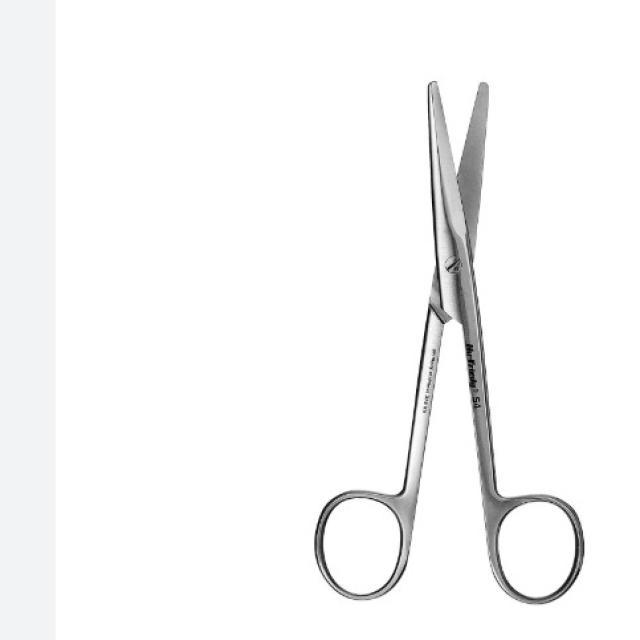Straight Mayo: (312, 76, 588, 610)
